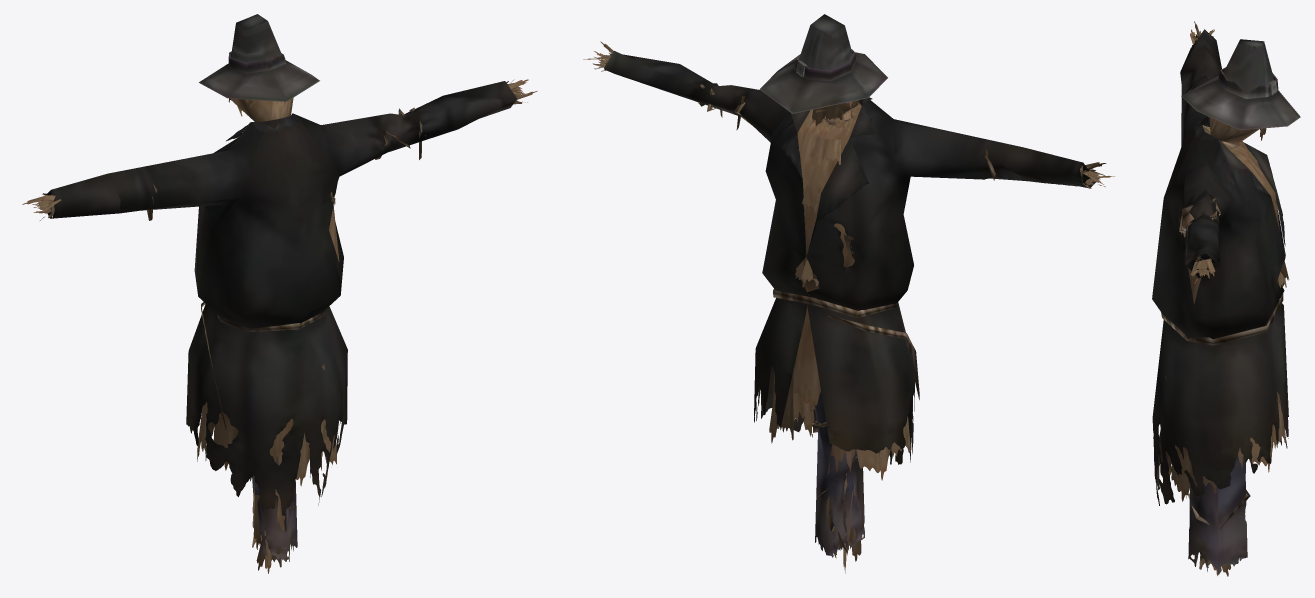
File: scarecrow.lod0.glb
The picture shows the model from 3 angles, left to right: view 1: azimuth 30°, elevation 25°; view 2: azimuth 150°, elevation 25°; view 3: azimuth 270°, elevation 25°; orthographic projection. The views are drawn at different scales.
Visible parts, largest first — view 1: Object_2; view 2: Object_2; view 3: Object_2.
Boxes of the visible parts, x1,y1,x2,y2 form: Object_2: (22,14,537,573); Object_2: (583,14,1114,573); Object_2: (1152,21,1300,576).
Bounding box in the file's own units: 1.52 × 1.55 × 0.3825.
Materials: 1 (1 with a texture image).
